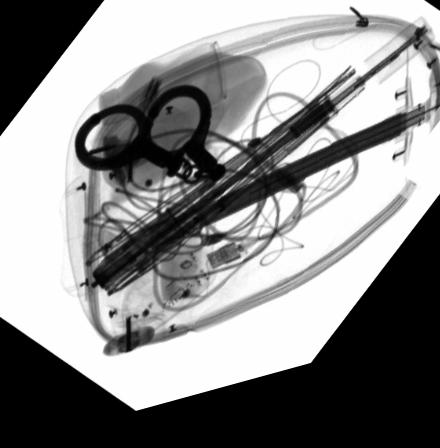HandCuffs: (72, 89, 230, 194)
